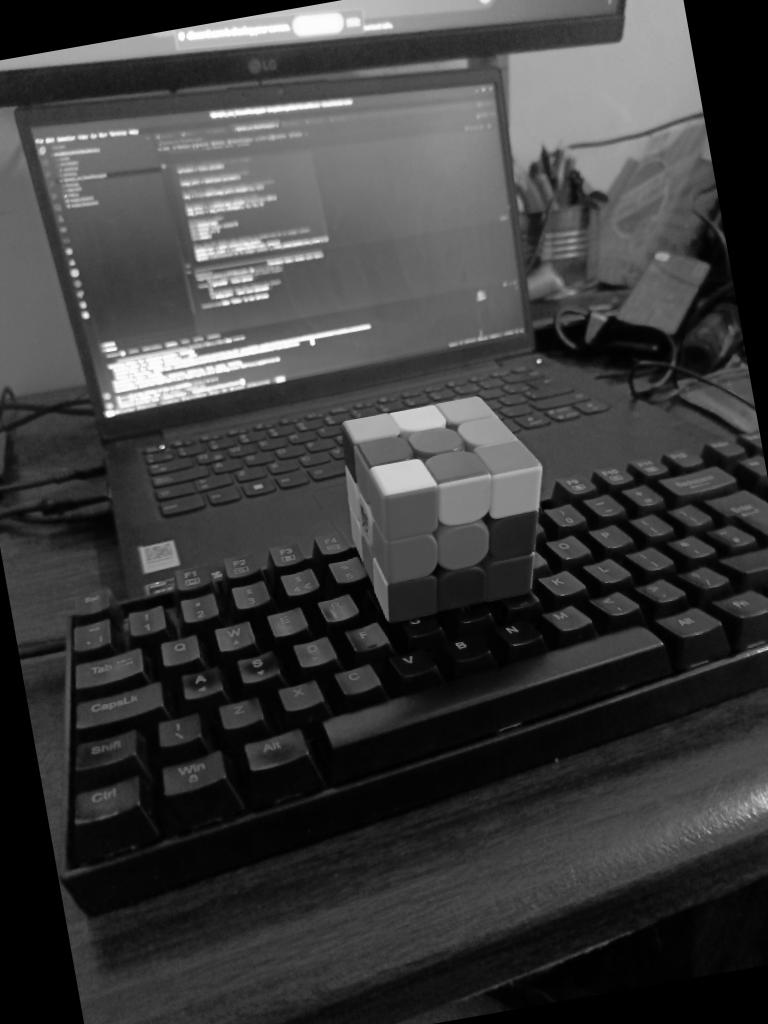rubik: (328, 381, 565, 627)
